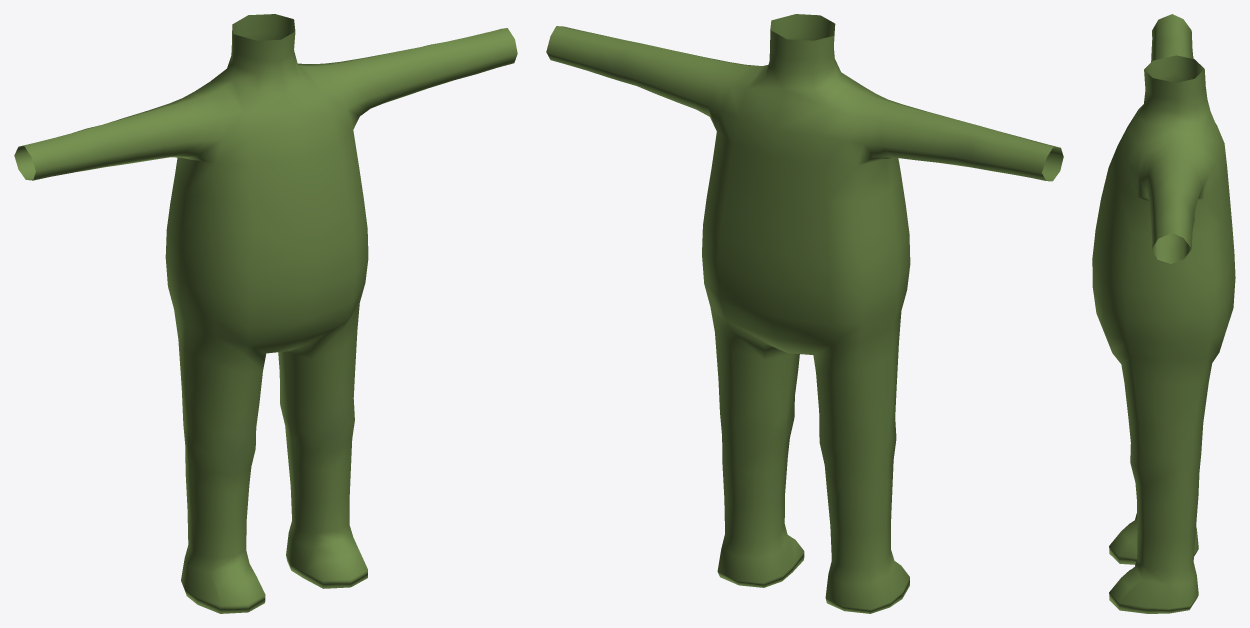
The model's file is Body_Green_2.fbx.
The picture shows the model from 3 angles, left to right: view 1: azimuth 30°, elevation 25°; view 2: azimuth 150°, elevation 25°; view 3: azimuth 270°, elevation 25°; orthographic projection. The views are drawn at different scales.
Parts seen in each view (by area): view 1: Body_Green_2; view 2: Body_Green_2; view 3: Body_Green_2.
Boxes of the visible parts, bbox=[...] form: Body_Green_2: bbox=[14, 14, 517, 613]; Body_Green_2: bbox=[546, 14, 1063, 613]; Body_Green_2: bbox=[1092, 14, 1235, 613].
Size of the model in its own units: 95.86 by 104 by 26.46.
